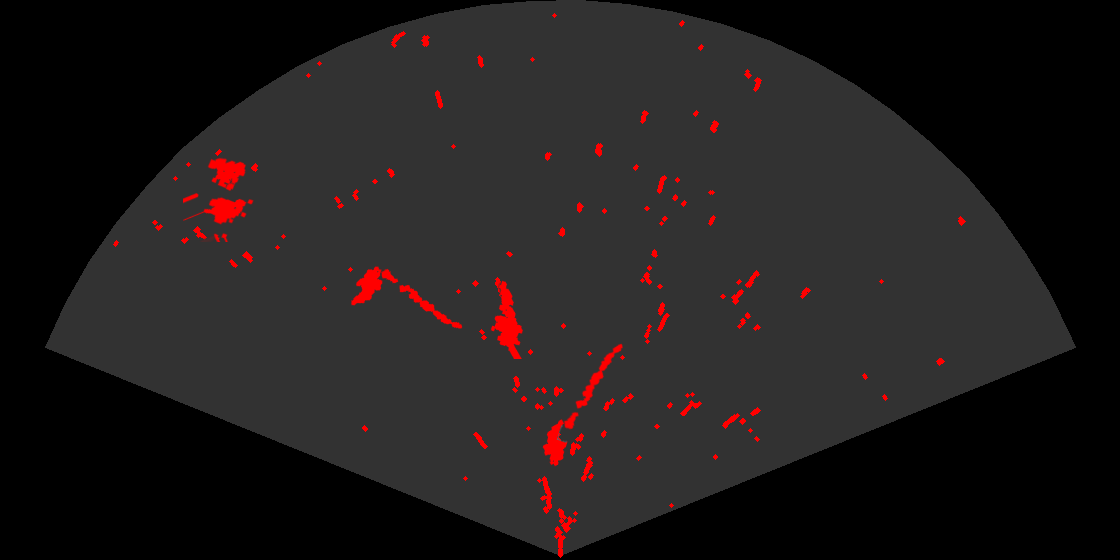AUV: (350, 265, 384, 307), (541, 418, 569, 468)
cage: (183, 156, 255, 242)
chain: (562, 342, 624, 431), (380, 267, 464, 330)
frogman: (489, 279, 524, 359)
